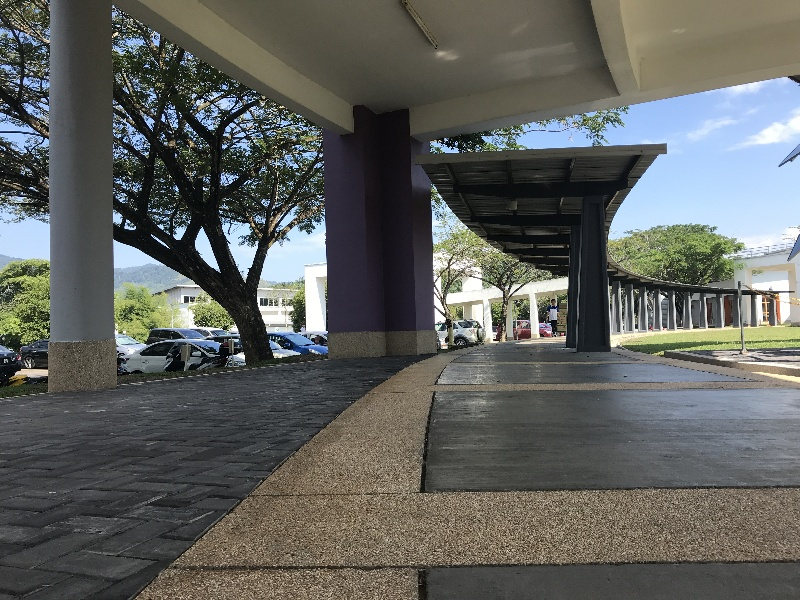Block D Pillar 5: (13, 6, 800, 558)
pillar: (299, 95, 458, 369), (33, 1, 131, 393), (570, 192, 618, 359)
